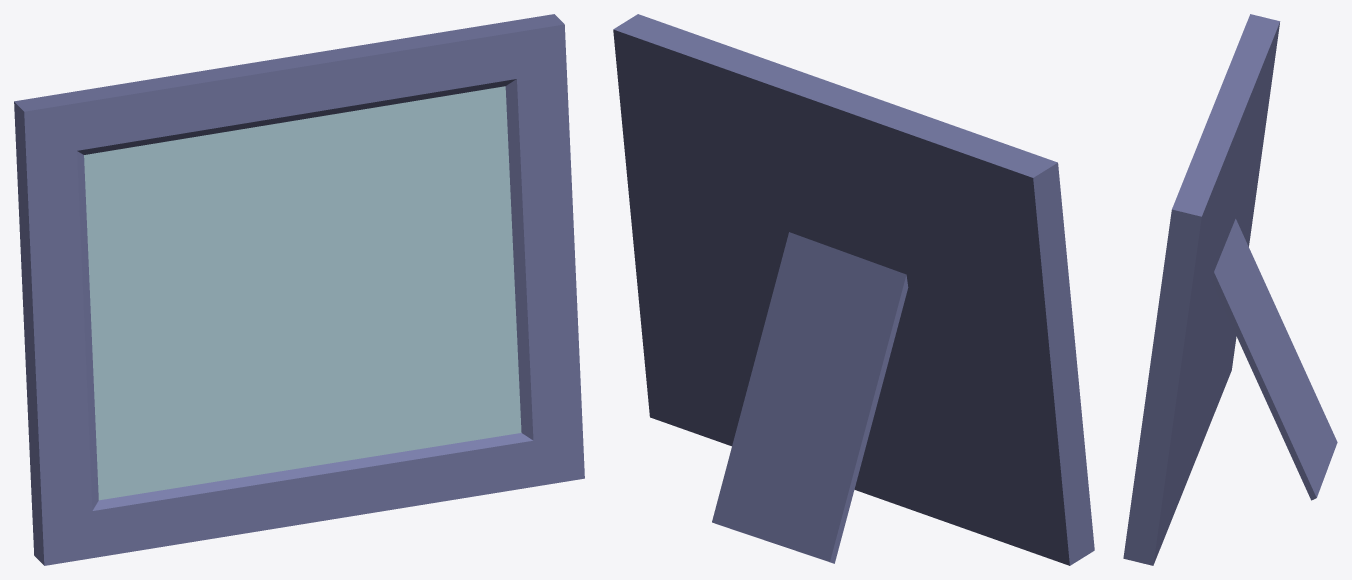
File: Photoframe_12.fbx
The picture shows the model from 3 angles, left to right: view 1: azimuth 30°, elevation 25°; view 2: azimuth 150°, elevation 25°; view 3: azimuth 270°, elevation 25°; orthographic projection. The views are drawn at different scales.
Parts seen in each view (by area): view 1: Photoframe_12; view 2: Photoframe_12; view 3: Photoframe_12.
Boxes of the visible parts, x1=… form: Photoframe_12: x1=14, y1=14, x2=584, y2=565; Photoframe_12: x1=613, y1=14, x2=1094, y2=565; Photoframe_12: x1=1123, y1=14, x2=1337, y2=565.
Bounding box in the file's own units: 34.33 × 15.22 × 28.12.
